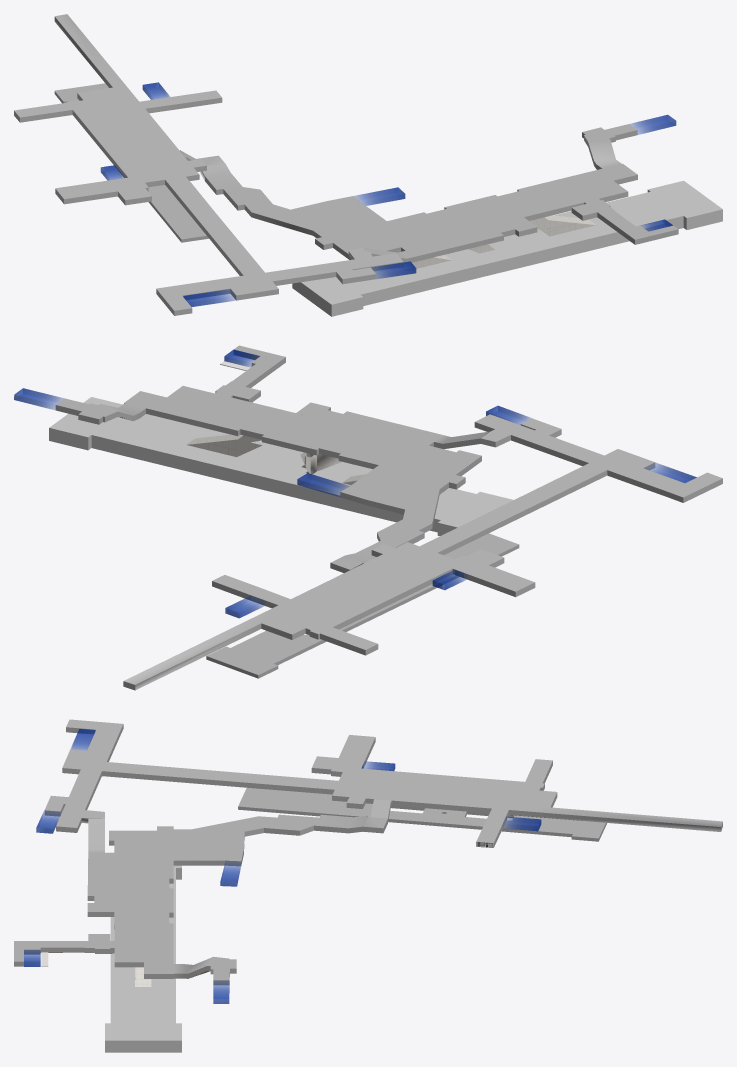
The model's file is dfzmHousetopDraco-opt.glb.
3 renders of one model, top to bottom at view 1: azimuth 30°, elevation 25°; view 2: azimuth 150°, elevation 25°; view 3: azimuth 270°, elevation 25°, orthographic. The views are drawn at different scales.
Parts seen in each view (by area): view 1: line3-hall-housetop, line1-hall-housetop, line3-platform-housetop, line1-hall-housetop-005, line3-middle-wall, line3-hall-housetop-003; view 2: line3-hall-housetop, line1-hall-housetop, line3-platform-housetop, line1-hall-housetop-005, line3-middle-wall, line3-hall-housetop-003; view 3: line3-hall-housetop, line1-hall-housetop, line3-platform-housetop, line1-hall-housetop-005, line3-hall-housetop-003.
Part boxes in pixels (x1,y1,x2,y2): line3-hall-housetop: (54,83,678,263); line1-hall-housetop: (14,14,403,315); line3-platform-housetop: (292,180,722,316); line1-hall-housetop-005: (100,82,416,306); line3-middle-wall: (400,215,595,270); line3-hall-housetop-003: (355,114,676,231); line3-hall-housetop: (55,345,519,678); line1-hall-housetop: (123,414,722,690); line3-platform-housetop: (49,397,513,535); line1-hall-housetop-005: (225,405,696,618); line3-middle-wall: (186,434,366,485); line3-hall-housetop-003: (14,349,349,496); line3-hall-housetop: (14,787,606,985); line1-hall-housetop: (44,719,722,847); line3-platform-housetop: (105,852,181,1052); line1-hall-housetop-005: (36,729,541,833); line3-hall-housetop-003: (24,860,240,1003).
Bounding box in the file's own units: 235 × 24.21 × 255.
Materials: 12 (8 with a texture image).
